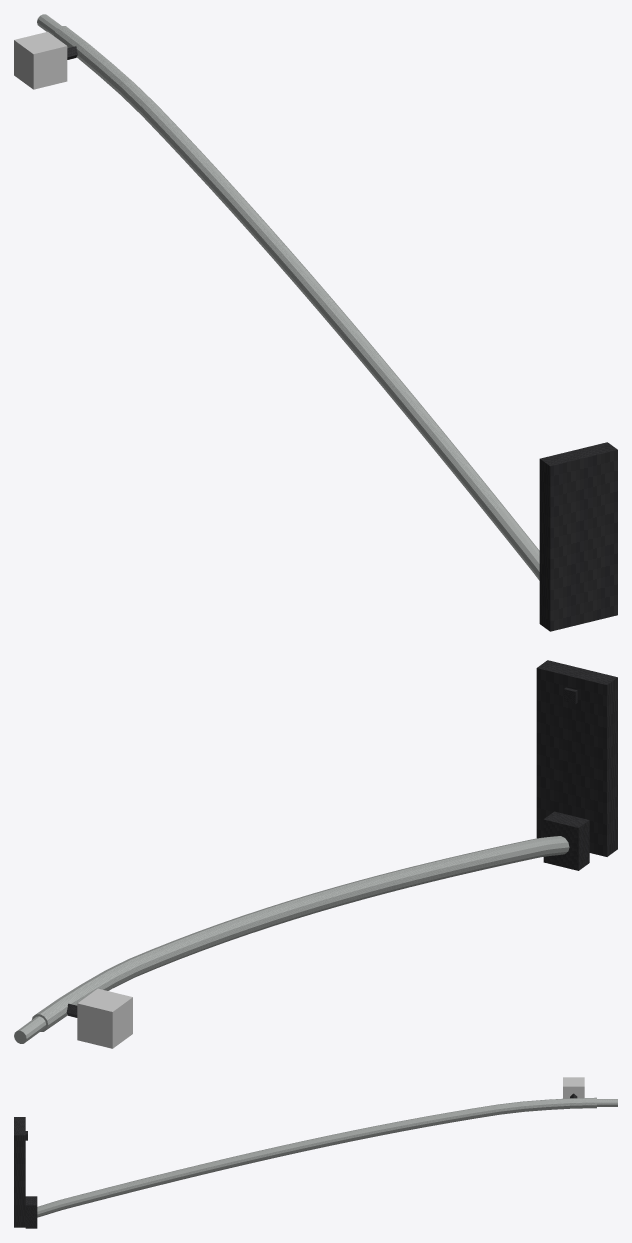
File: arm_5_straight_left.obj
3 renders of one model, top to bottom at view 1: azimuth 30°, elevation 25°; view 2: azimuth 150°, elevation 25°; view 3: azimuth 270°, elevation 25°, orthographic. The views are drawn at different scales.
Parts seen in each view (by area): view 1: pole_light_mount_5_straight_left; view 2: pole_light_mount_5_straight_left; view 3: pole_light_mount_5_straight_left.
Boxes of the visible parts, bbox=[...] form: pole_light_mount_5_straight_left: bbox=[14, 14, 617, 631]; pole_light_mount_5_straight_left: bbox=[14, 660, 617, 1048]; pole_light_mount_5_straight_left: bbox=[14, 1077, 617, 1228].
Size of the model in its own units: 0.5138 by 1.24 by 5.19.
